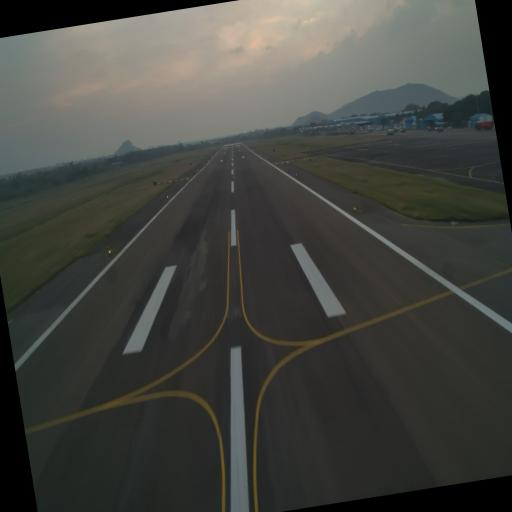on: (106, 247, 113, 255), (351, 204, 357, 212)
